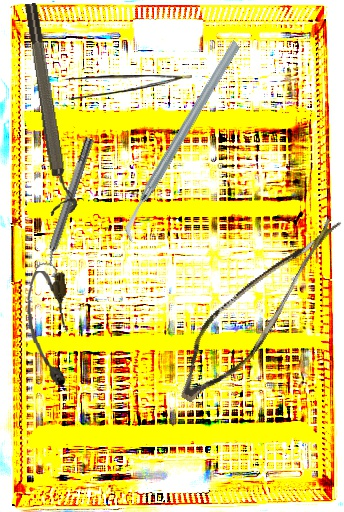Cannula: (24, 269, 73, 387)
Chopper: (69, 38, 297, 245)
Fixation Ring: (21, 1, 79, 216), (33, 135, 102, 278)
Micro Scissor: (167, 185, 344, 425)
Tissue Forceps: (63, 75, 192, 99)
